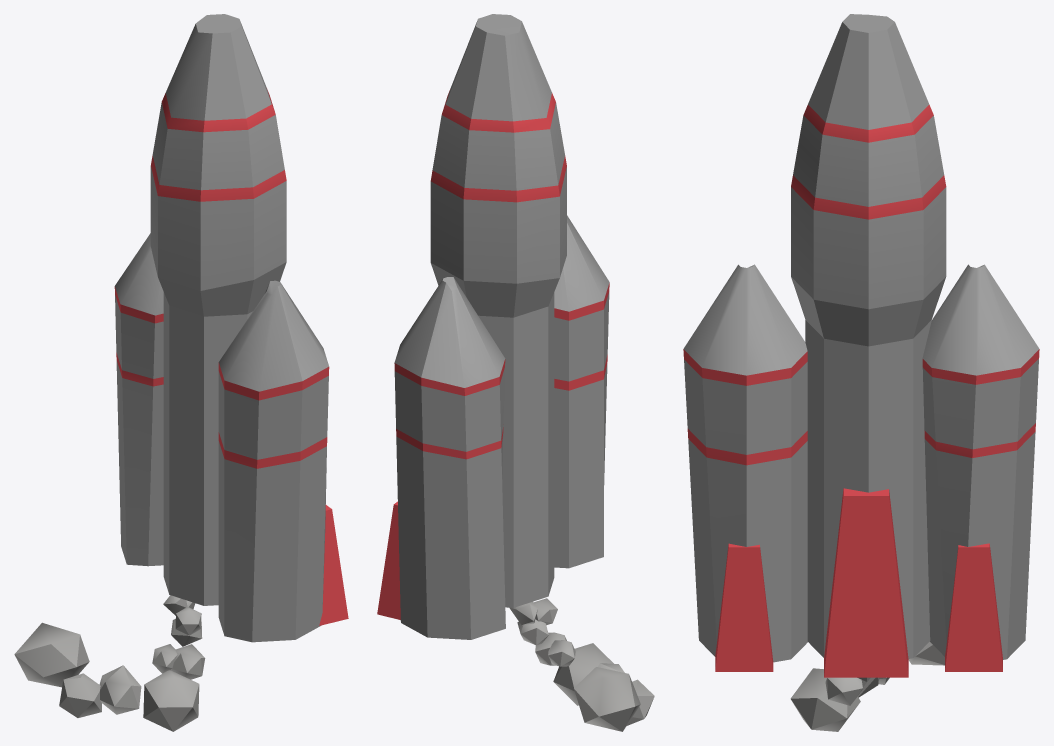
The model's file is rocket.fbx.
3 views of the same model, side by side, from view 1: azimuth 30°, elevation 25°; view 2: azimuth 150°, elevation 25°; view 3: azimuth 270°, elevation 25° (orthographic). The views are drawn at different scales.
Visible parts, largest first — view 1: Cylinder.001; view 2: Cylinder.001; view 3: Cylinder.001.
Part boxes in pixels (<box>): Cylinder.001: <box>14,14,348,731</box>; Cylinder.001: <box>377,14,654,731</box>; Cylinder.001: <box>683,14,1039,731</box>.
Bounding box in the file's own units: 487 × 1301 × 564.
